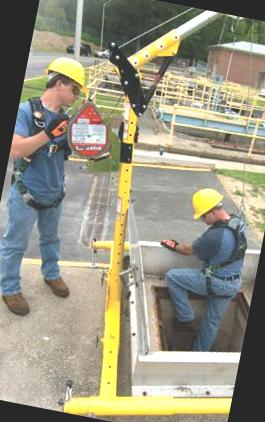helmet: (40, 50, 98, 94), (184, 184, 228, 226)
no_vest: (1, 98, 86, 202)
person: (0, 43, 119, 327), (150, 180, 252, 357)
